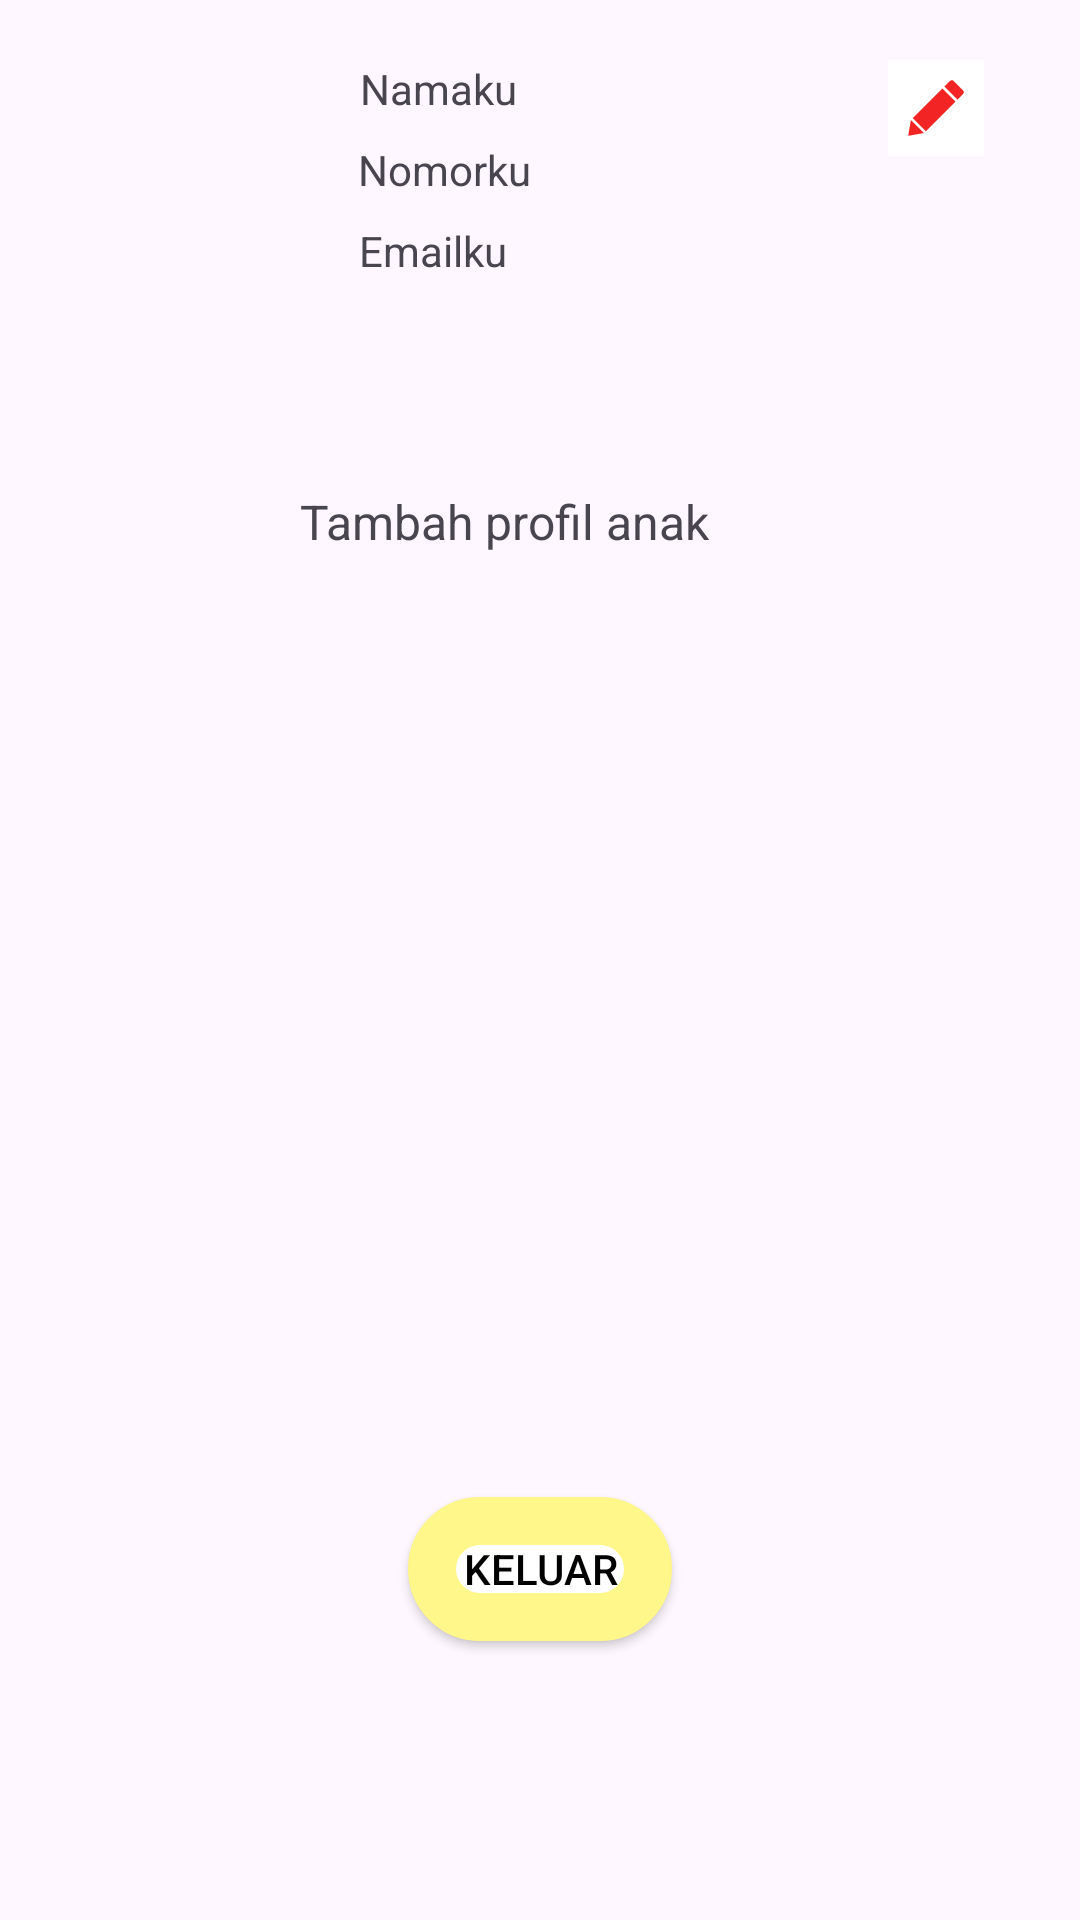

Where to tap for icons on this 1080px x 1920px app screen, as point (x, y):
pencil: point (936, 108)
